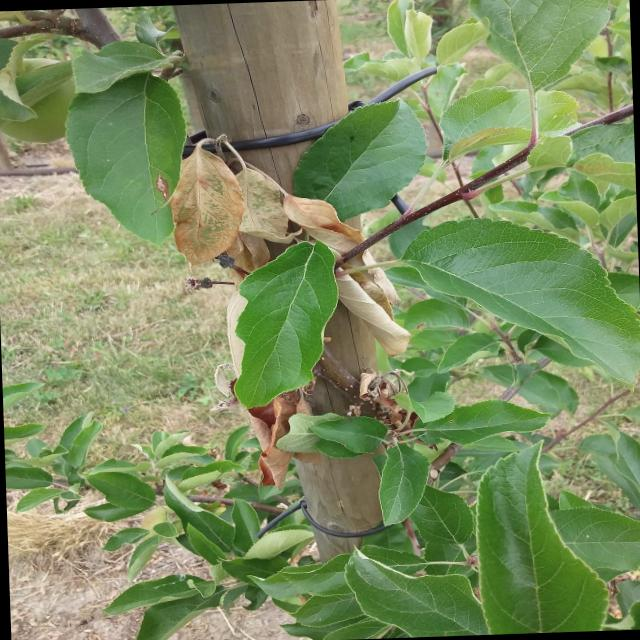-FireBlight-: (183, 122, 295, 258), (242, 399, 296, 494)
